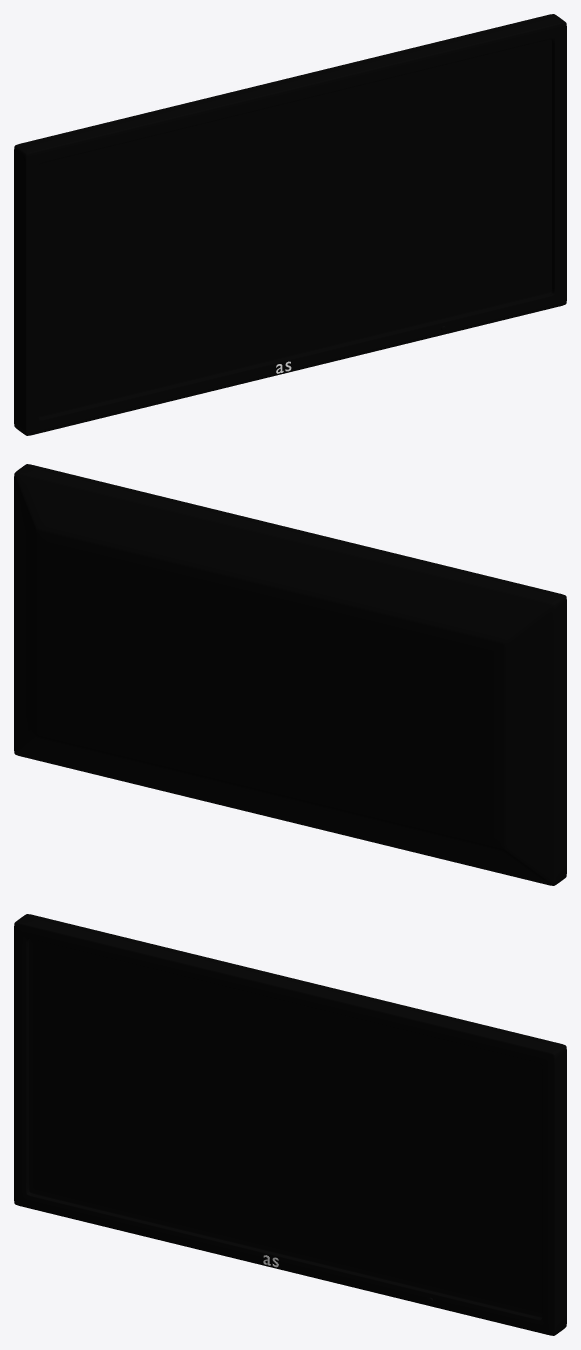
3 renders of one model, top to bottom at view 1: azimuth 30°, elevation 25°; view 2: azimuth 150°, elevation 25°; view 3: azimuth 330°, elevation 25°, orthographic.
Visible parts, largest first — view 1: TV; view 2: TV; view 3: TV.
Boxes of the visible parts, x1,y1,x2,y2 form: TV: (14,14,566,435); TV: (14,464,566,885); TV: (14,914,566,1335).
Size of the model in its own units: 4 by 2 by 0.3469.
Materials: 3 (1 with a texture image).
